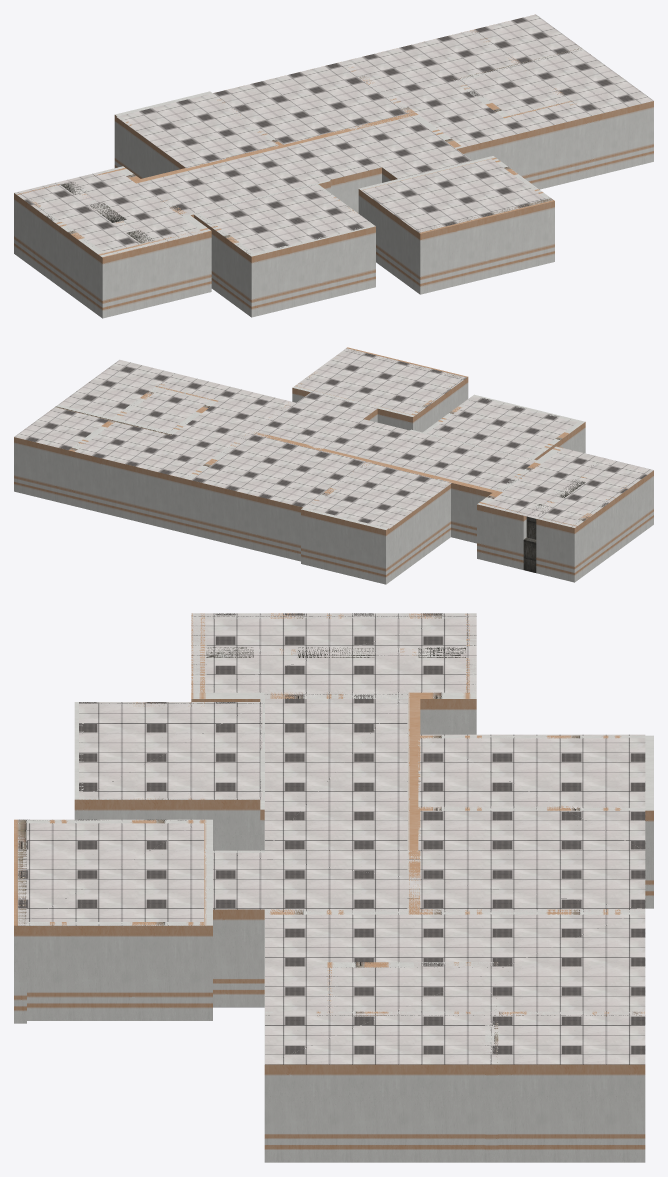
File: Mapdraftfinished.fbx
3 renders of one model, top to bottom at view 1: azimuth 30°, elevation 25°; view 2: azimuth 150°, elevation 25°; view 3: azimuth 270°, elevation 25°, orthographic. The views are drawn at different scales.
Parts seen in each view (by area): view 1: map/ceiling_mesh, map/officewall_mesh, map/concretewall_mesh; view 2: map/ceiling_mesh, map/officewall_mesh, map/concretewall_mesh; view 3: map/ceiling_mesh, map/officewall_mesh, map/concretewall_mesh.
Part boxes in pixels (<box>): map/ceiling_mesh: <box>14,14,653,255</box>; map/officewall_mesh: <box>14,29,653,318</box>; map/concretewall_mesh: <box>60,182,153,243</box>; map/ceiling_mesh: <box>14,348,653,528</box>; map/officewall_mesh: <box>14,347,653,584</box>; map/concretewall_mesh: <box>523,465,593,572</box>; map/ceiling_mesh: <box>18,613,645,1064</box>; map/officewall_mesh: <box>14,613,653,1162</box>; map/concretewall_mesh: <box>206,647,465,657</box>.
Size of the model in its own units: 15810 by 1760 by 9472.
